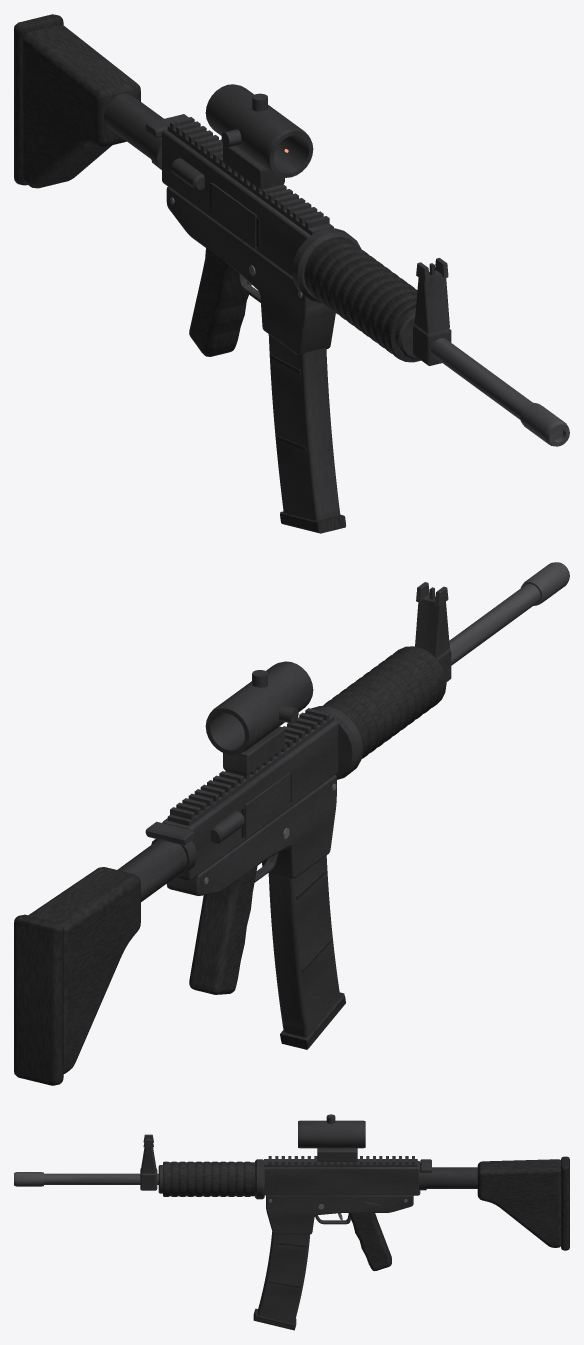
The picture shows the model from 3 angles, top to bottom: view 1: azimuth 30°, elevation 25°; view 2: azimuth 150°, elevation 25°; view 3: azimuth 270°, elevation 25°; orthographic projection. The views are drawn at different scales.
Visible parts, largest first — view 1: model; view 2: model; view 3: model.
Part boxes in pixels (bbox=[...]): model: bbox=[14, 14, 569, 533]; model: bbox=[14, 562, 569, 1085]; model: bbox=[14, 1114, 569, 1330].
Size of the model in its own units: 0.0635 by 0.3578 by 0.854.
Materials: 7 (5 with a texture image).
